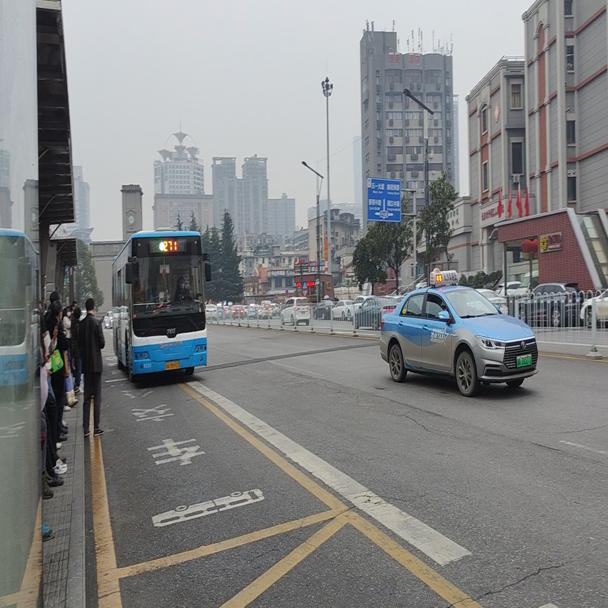bus: (111, 229, 208, 378)
screen: (163, 238, 178, 252)
